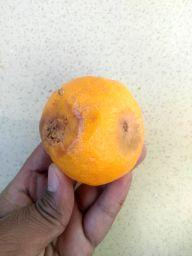Unripe: (39, 77, 143, 181)
